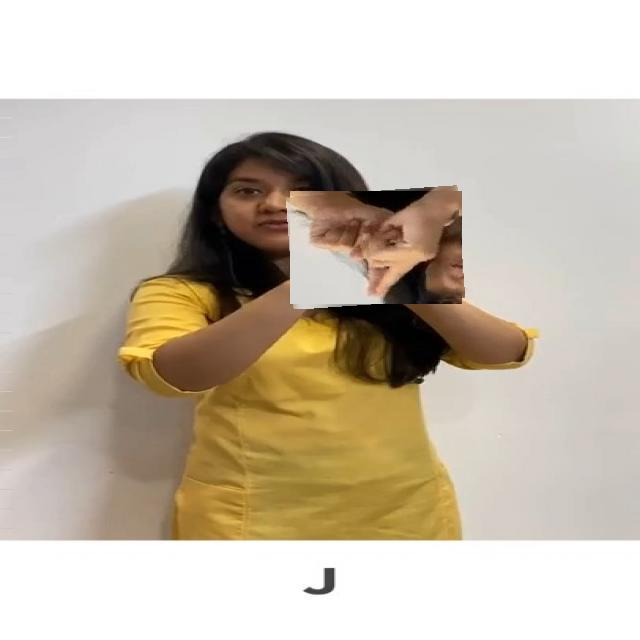J: (288, 188, 464, 307)
